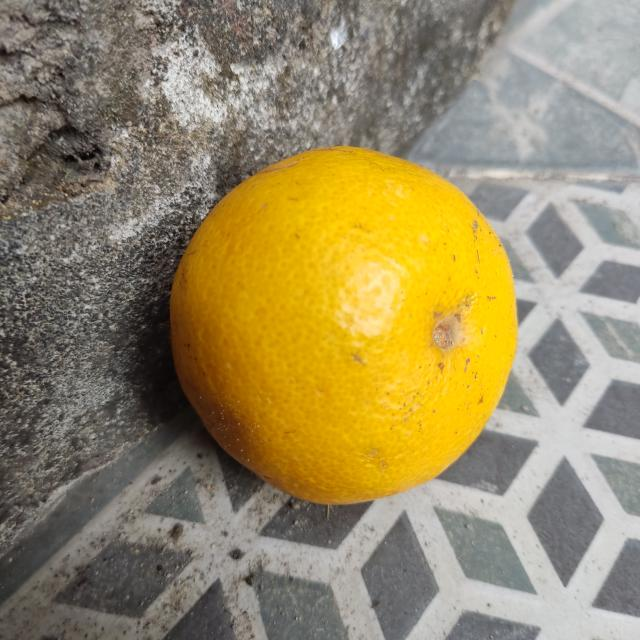orange: (165, 143, 521, 505)
